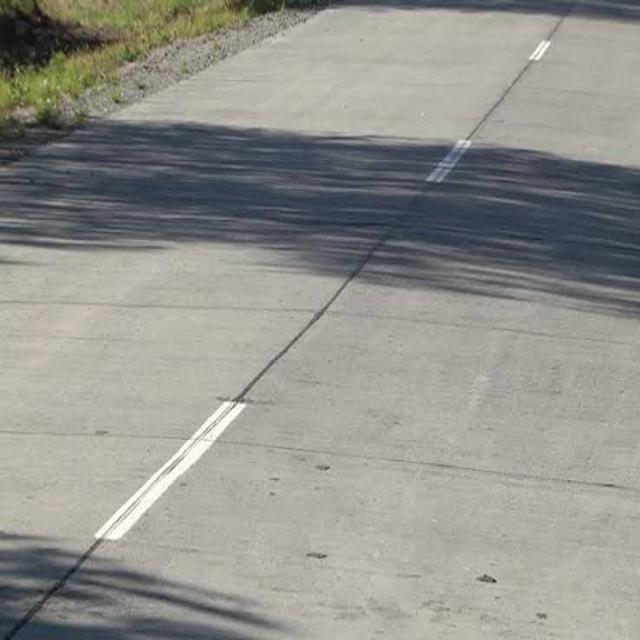Memanjang: (0, 0, 592, 640)
